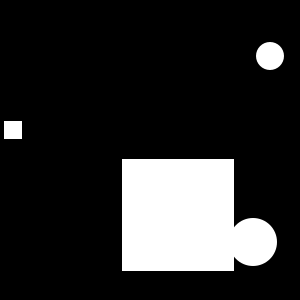circle: (122, 159, 234, 271), (4, 121, 22, 139)
rectangle: (229, 218, 277, 266), (256, 42, 284, 70)
